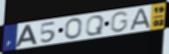5: (39, 20, 57, 44)
A: (127, 7, 152, 32), (14, 24, 38, 48)
G: (109, 11, 130, 34)
O: (64, 17, 83, 40)
Q: (84, 14, 106, 36)
